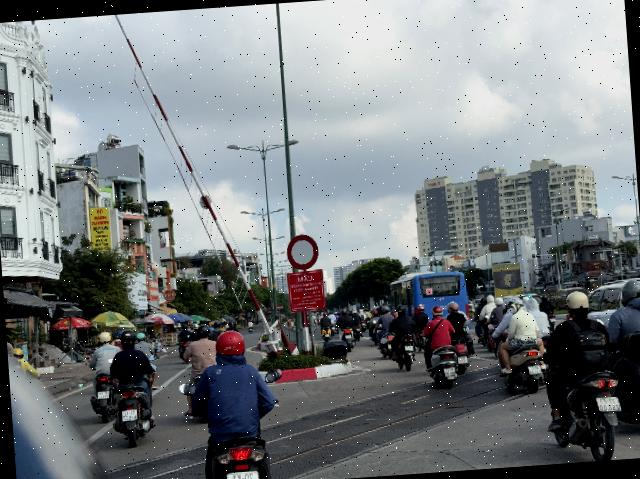duong-cam: (284, 234, 320, 270)
